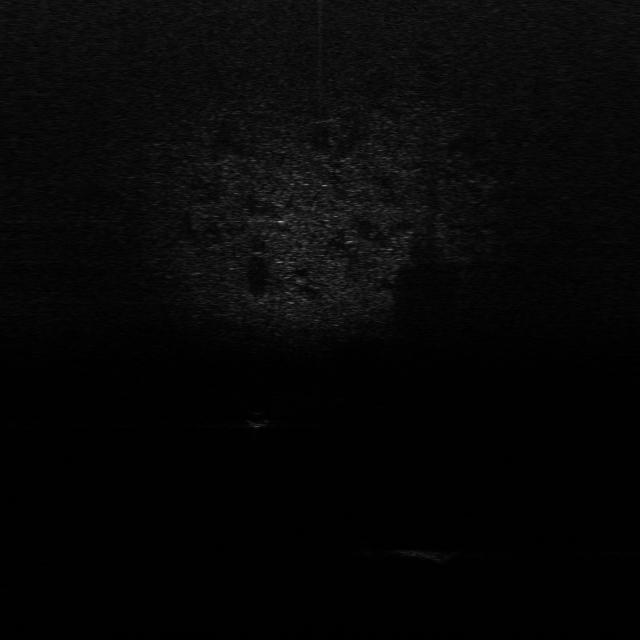ball: (243, 410, 271, 431)
metal bucket: (390, 542, 460, 564)
